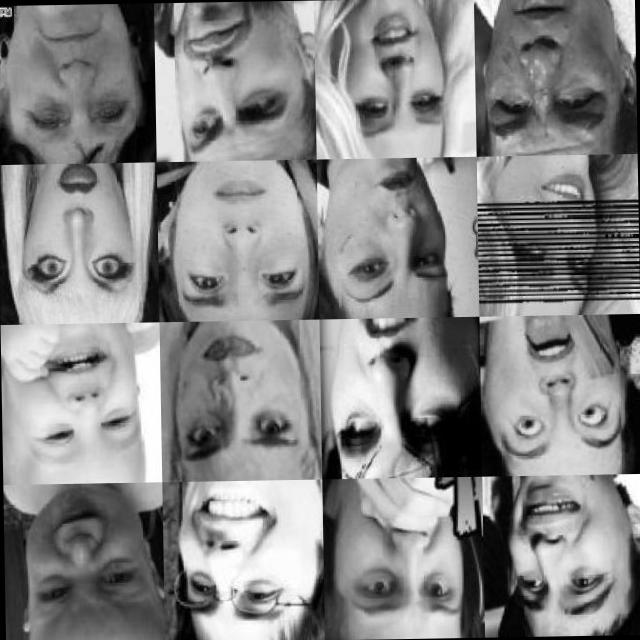angry: (325, 318, 479, 480), (317, 162, 464, 313), (174, 160, 308, 315)
fear: (332, 480, 474, 630), (484, 315, 629, 459), (15, 169, 140, 313)
happy: (0, 3, 143, 168), (0, 324, 145, 484), (482, 156, 627, 306), (172, 484, 316, 631), (174, 0, 294, 162), (344, 0, 449, 145)
neutral: (170, 322, 315, 482), (485, 0, 621, 150)
sad: (498, 470, 628, 634), (20, 496, 164, 640)
